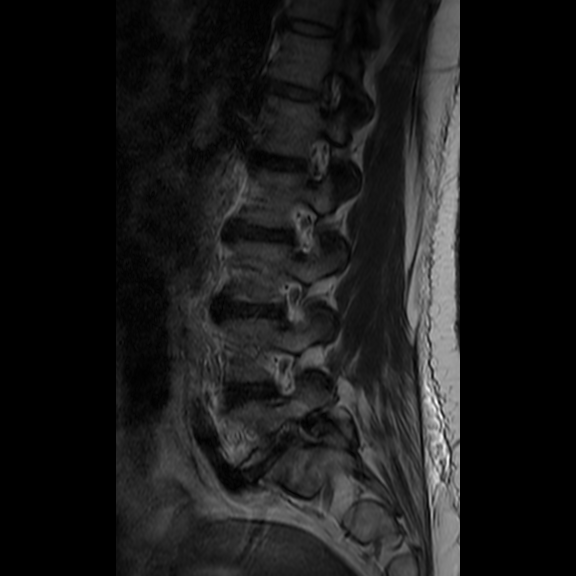LFS0: (282, 195, 328, 263), (293, 132, 334, 189)
